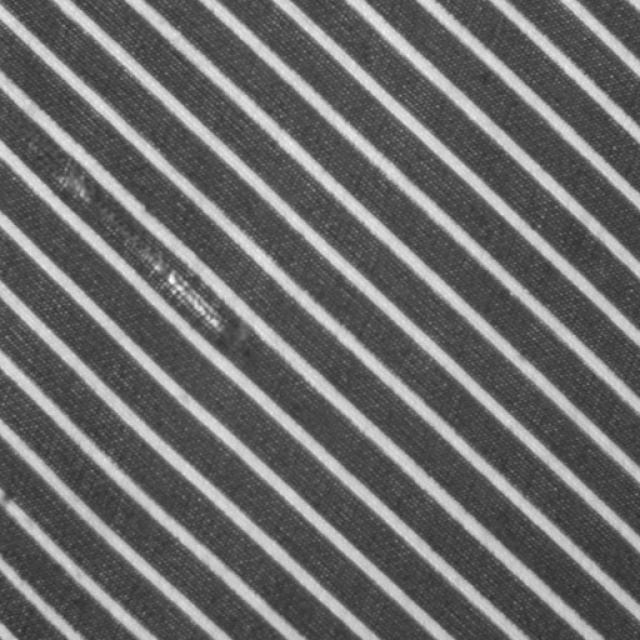Thread-Defect: (40, 148, 258, 352)
